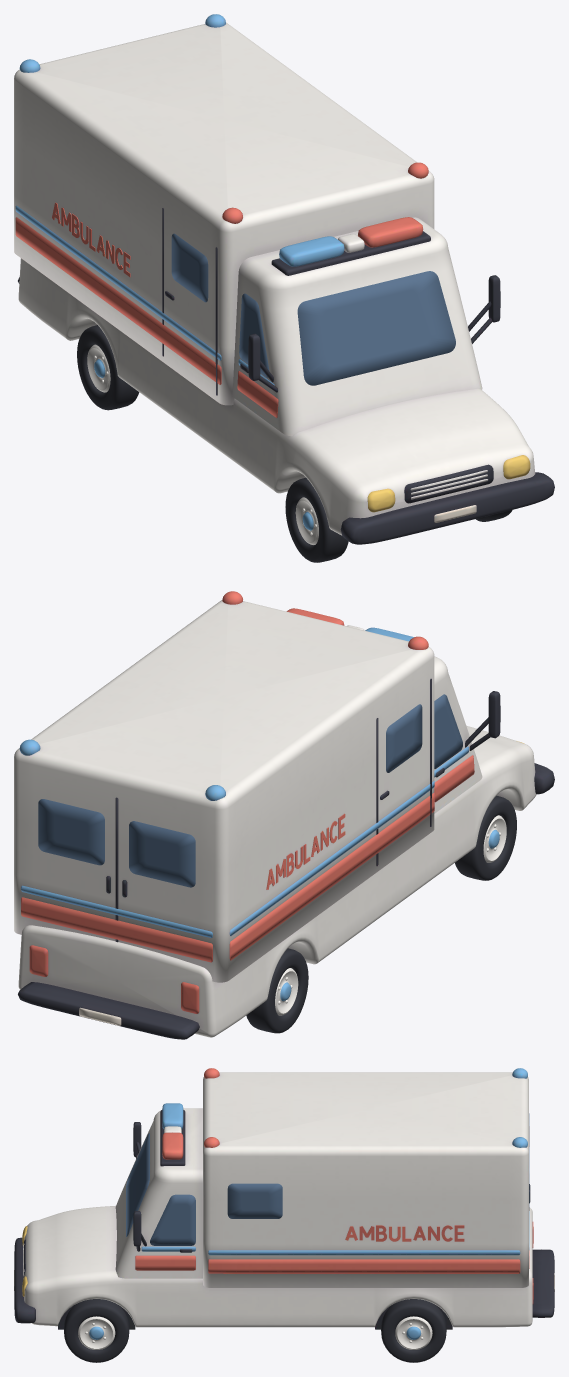
Rendered from ambulance.glb.
The picture shows the model from 3 angles, top to bottom: view 1: azimuth 30°, elevation 25°; view 2: azimuth 150°, elevation 25°; view 3: azimuth 270°, elevation 25°; orthographic projection. The views are drawn at different scales.
Parts seen in each view (by area): view 1: ambulance_body, ambulance_windows, ambulance_wheel_fr, ambulance_wheel_rr; view 2: ambulance_body, ambulance_windows, ambulance_wheel_rr, ambulance_wheel_fr; view 3: ambulance_body, ambulance_windows, ambulance_wheel_rl, ambulance_wheel_fl.
Boxes of the visible parts, bbox=[...] form: ambulance_body: bbox=[14, 14, 554, 544]; ambulance_windows: bbox=[171, 233, 455, 385]; ambulance_wheel_fr: bbox=[285, 477, 348, 562]; ambulance_wheel_rr: bbox=[77, 325, 139, 410]; ambulance_body: bbox=[14, 591, 554, 1039]; ambulance_windows: bbox=[38, 694, 462, 887]; ambulance_wheel_rr: bbox=[246, 948, 308, 1033]; ambulance_wheel_fr: bbox=[455, 795, 516, 880]; ambulance_body: bbox=[14, 1068, 554, 1329]; ambulance_windows: bbox=[126, 1113, 529, 1245]; ambulance_wheel_rl: bbox=[381, 1299, 446, 1362]; ambulance_wheel_fl: bbox=[64, 1299, 129, 1362].
Size of the model in its own units: 2.46 by 2.81 by 6.11.
Materials: 14 (1 with a texture image).
